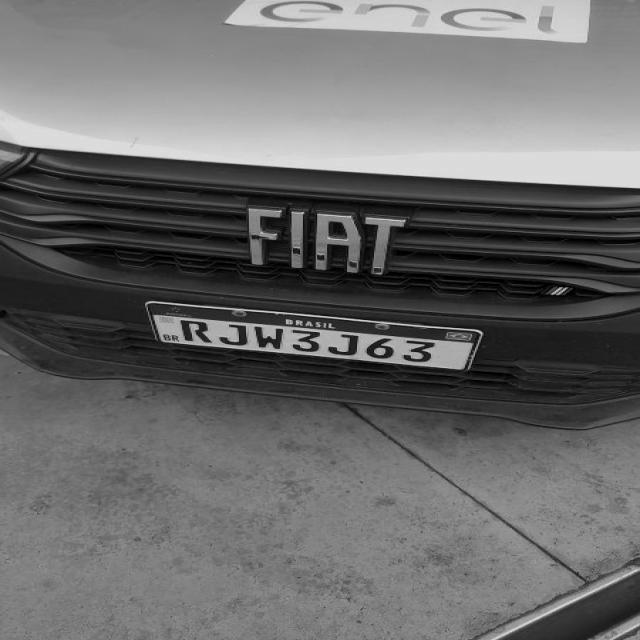placa_mercosul: (146, 301, 482, 370)
